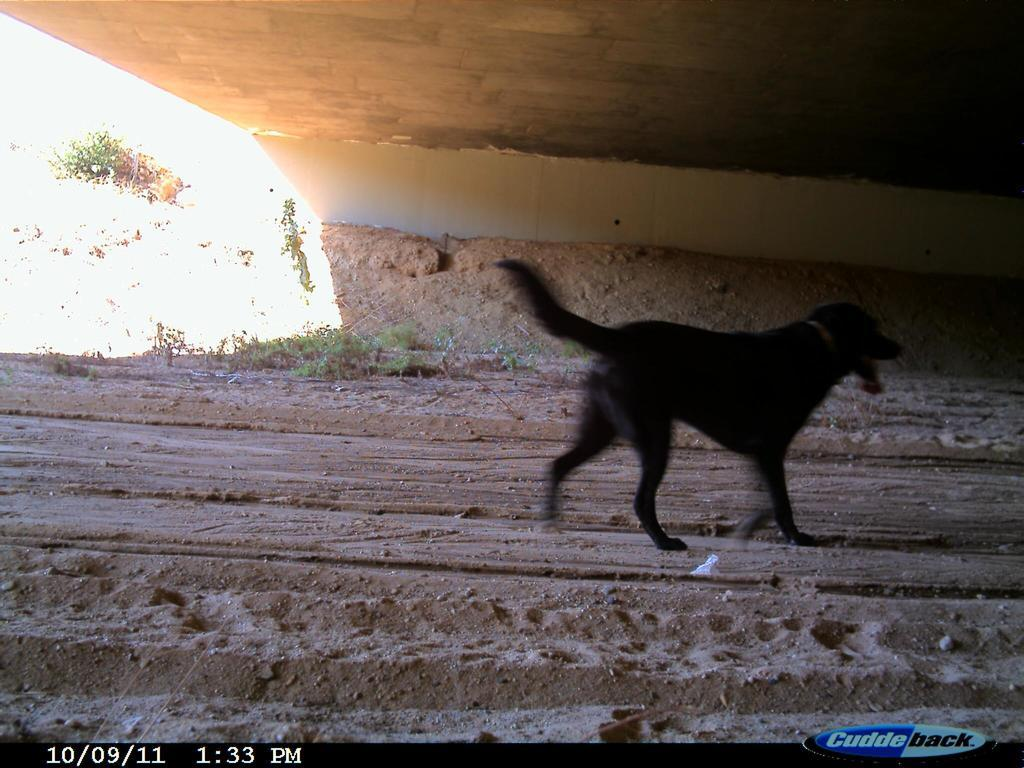dog: (442, 222, 914, 578)
